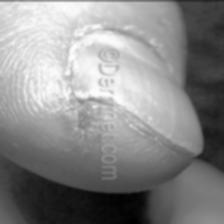Toxin: (50, 80, 152, 158)
